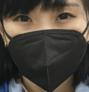with_mask: (2, 1, 89, 92)
